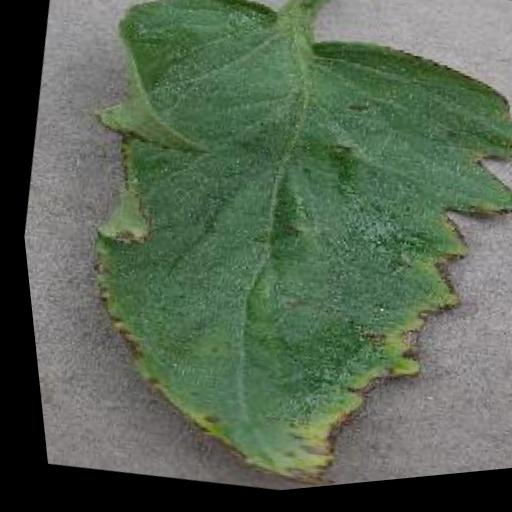Bacterial Spot: (12, 0, 512, 511)
